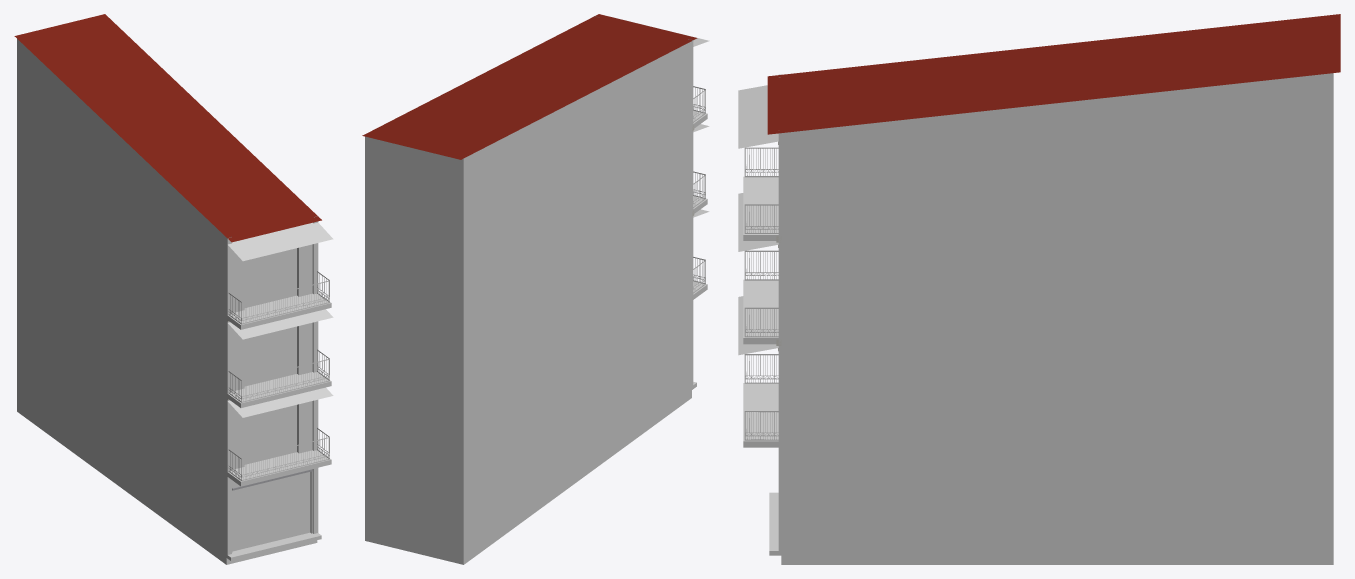
The picture shows the model from 3 angles, left to right: view 1: azimuth 30°, elevation 25°; view 2: azimuth 150°, elevation 25°; view 3: azimuth 270°, elevation 25°; orthographic projection. The views are drawn at different scales.
Visible parts, largest first — view 1: TH_D16_C_01_LOD0; view 2: TH_D16_C_01_LOD0; view 3: TH_D16_C_01_LOD0.
Part boxes in pixels (left/top/right/bottom): TH_D16_C_01_LOD0: left=14, top=14, right=333, bottom=564; TH_D16_C_01_LOD0: left=362, top=14, right=709, bottom=564; TH_D16_C_01_LOD0: left=738, top=14, right=1340, bottom=564.
Size of what is drawn, in the model's own units: 4 by 15.74 by 17.45.
